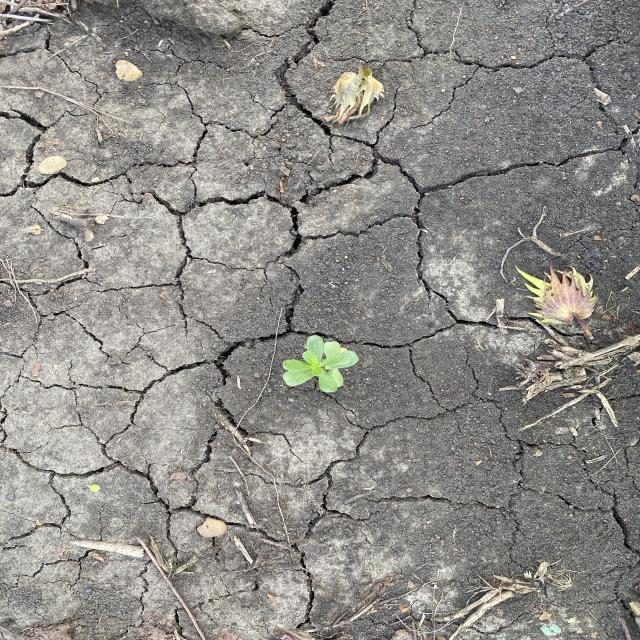Purslane: (278, 333, 363, 395)
